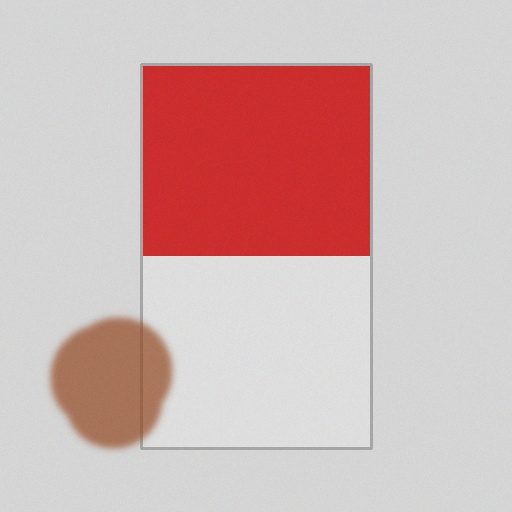surface_abnormality: (45, 316, 179, 450)
